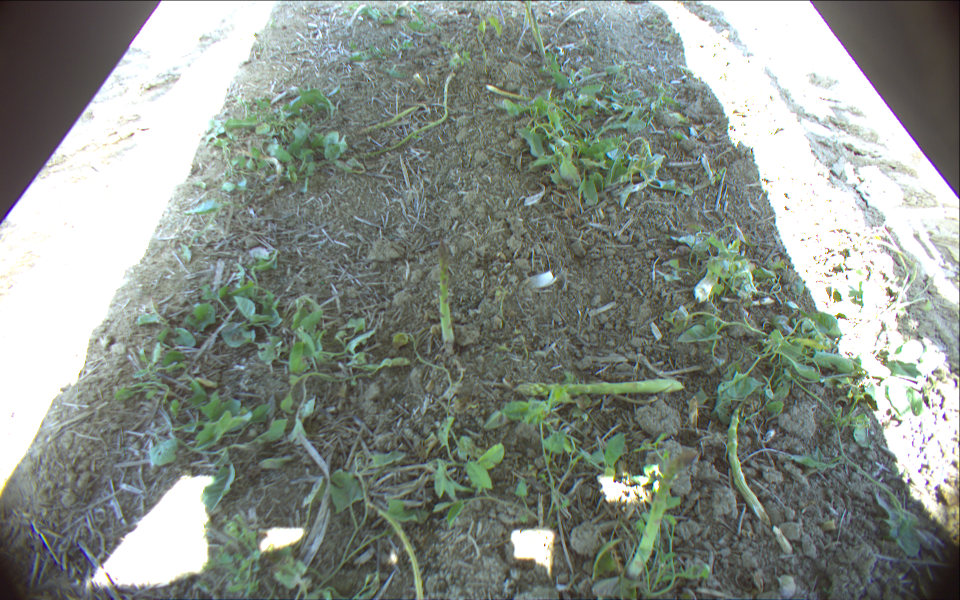aspa: (625, 449, 699, 580), (349, 71, 457, 159), (362, 500, 423, 600), (726, 400, 764, 517), (513, 376, 684, 397), (355, 106, 420, 137), (438, 239, 454, 348), (486, 84, 557, 104), (533, 8, 547, 68), (525, 1, 538, 43), (521, 1, 533, 29)
